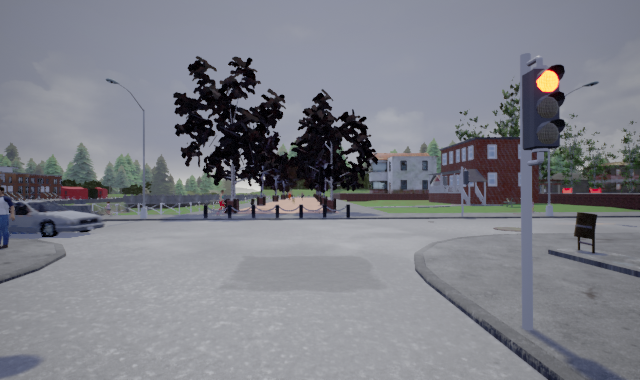pedestrian: (1, 184, 16, 250), (215, 188, 226, 216), (102, 200, 114, 216)
vehicle: (1, 200, 109, 239)
